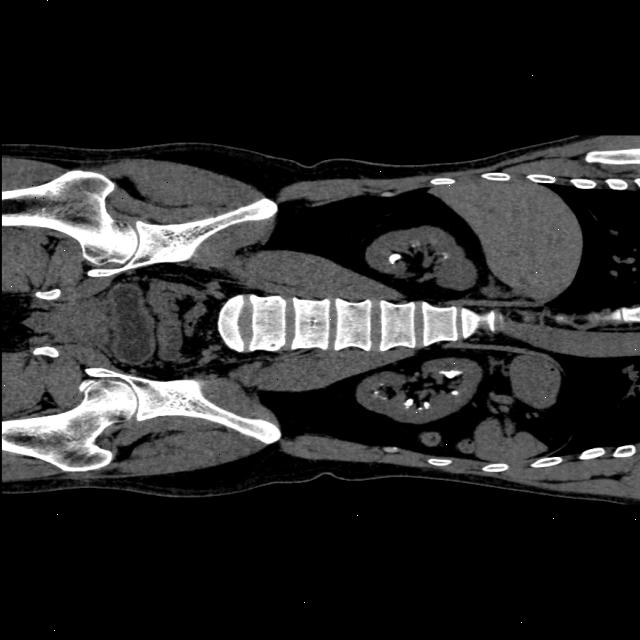kidneystone: (439, 370, 461, 379), (388, 254, 401, 264), (435, 252, 450, 256), (405, 399, 413, 406), (412, 240, 421, 246), (451, 390, 458, 395), (428, 404, 430, 409)
